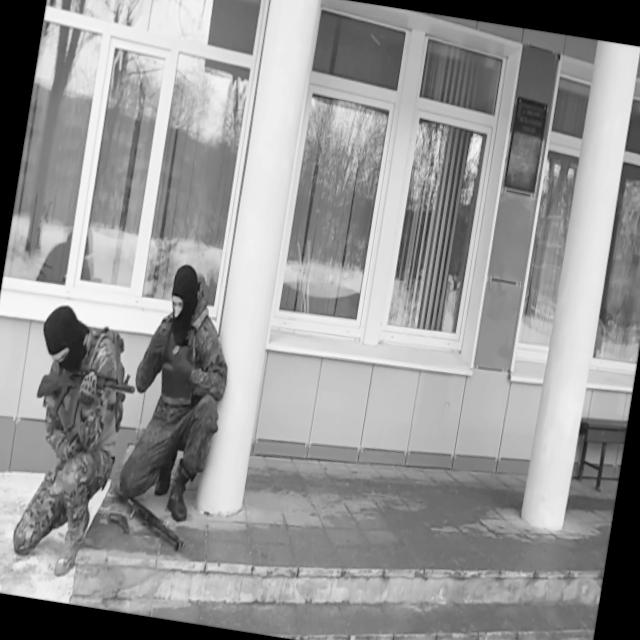gun: (31, 359, 138, 445), (102, 477, 194, 556), (105, 508, 134, 538)
person with a gun: (4, 298, 148, 584), (110, 256, 244, 534)
